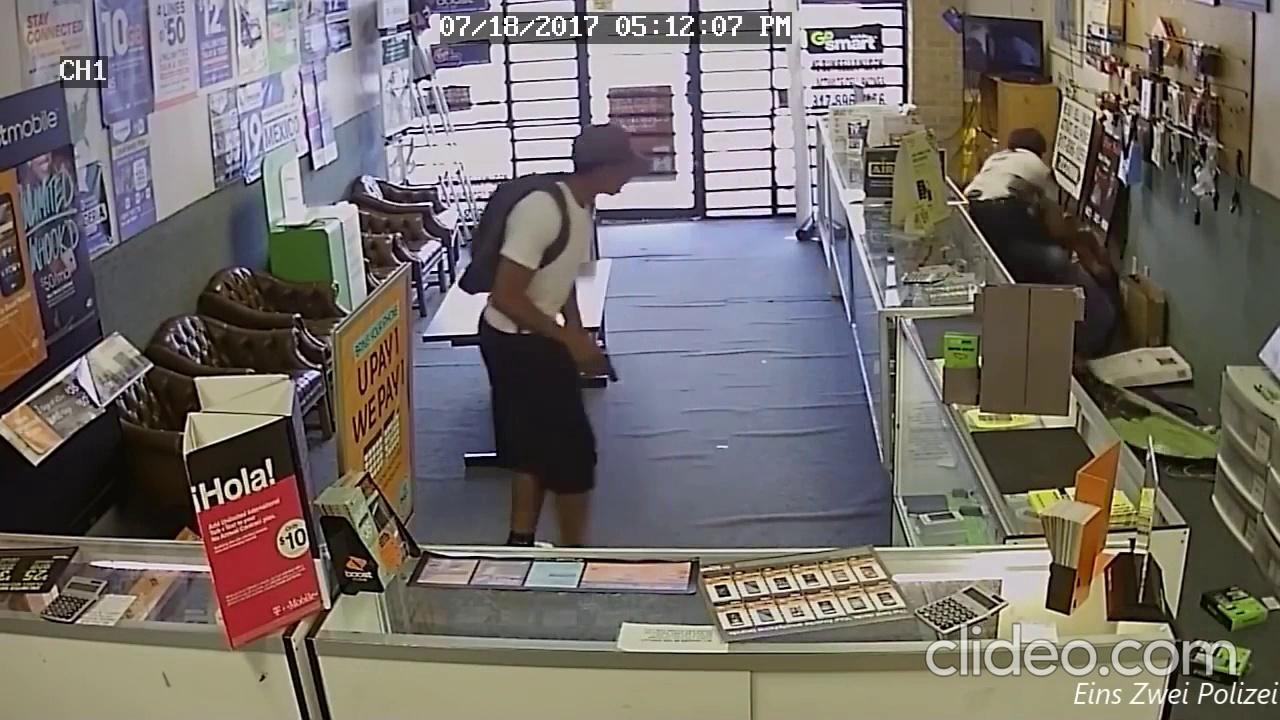person: (460, 122, 653, 546), (966, 122, 1071, 288)
pistol: (581, 343, 621, 387)
